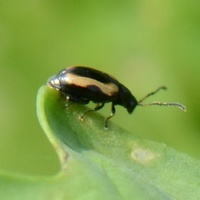insect: (47, 66, 185, 128)
